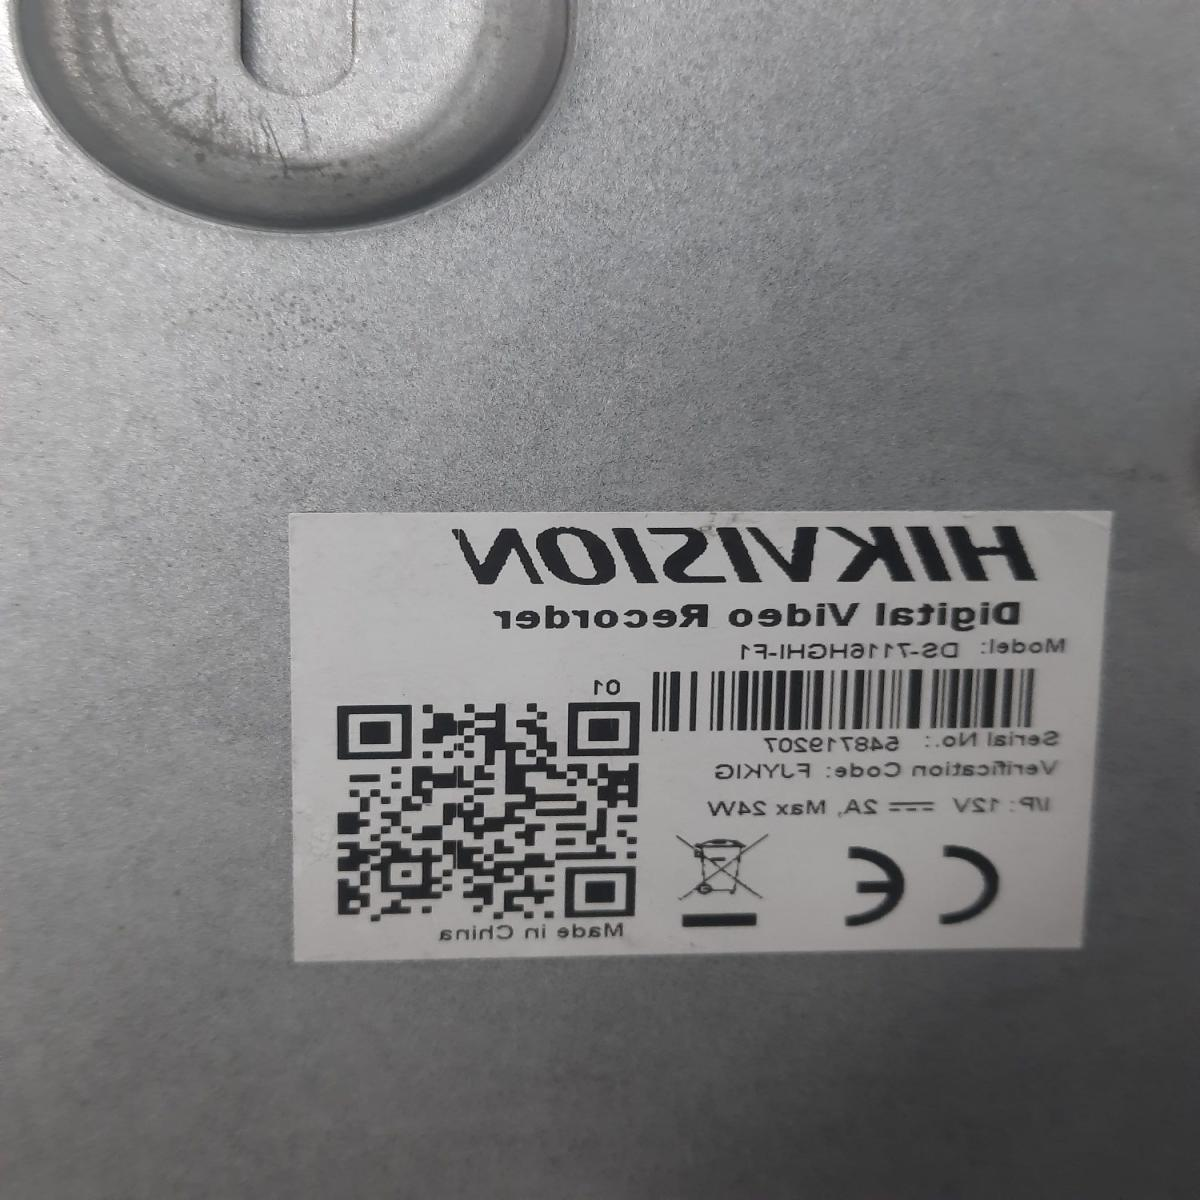Barcode: (635, 658, 1054, 742)
Label: (293, 514, 1088, 956)
